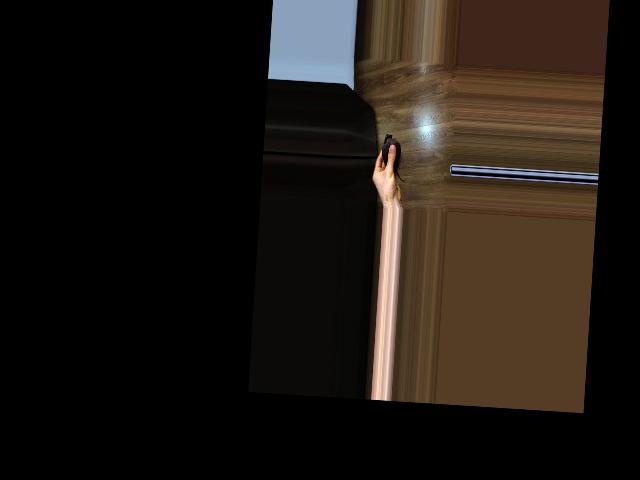beet: (380, 133, 408, 180)
